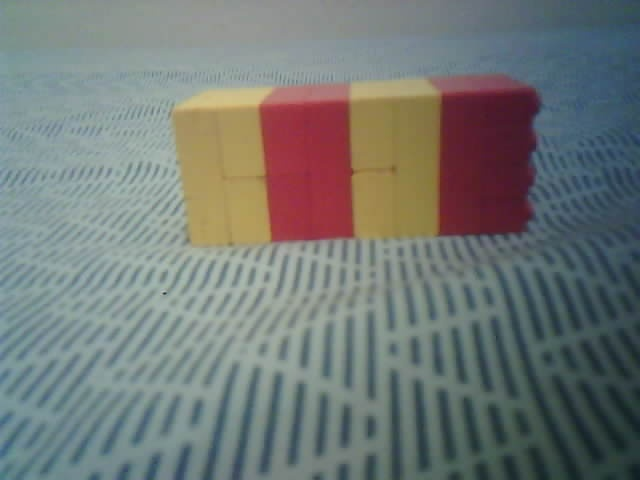lego: (170, 73, 545, 249)
